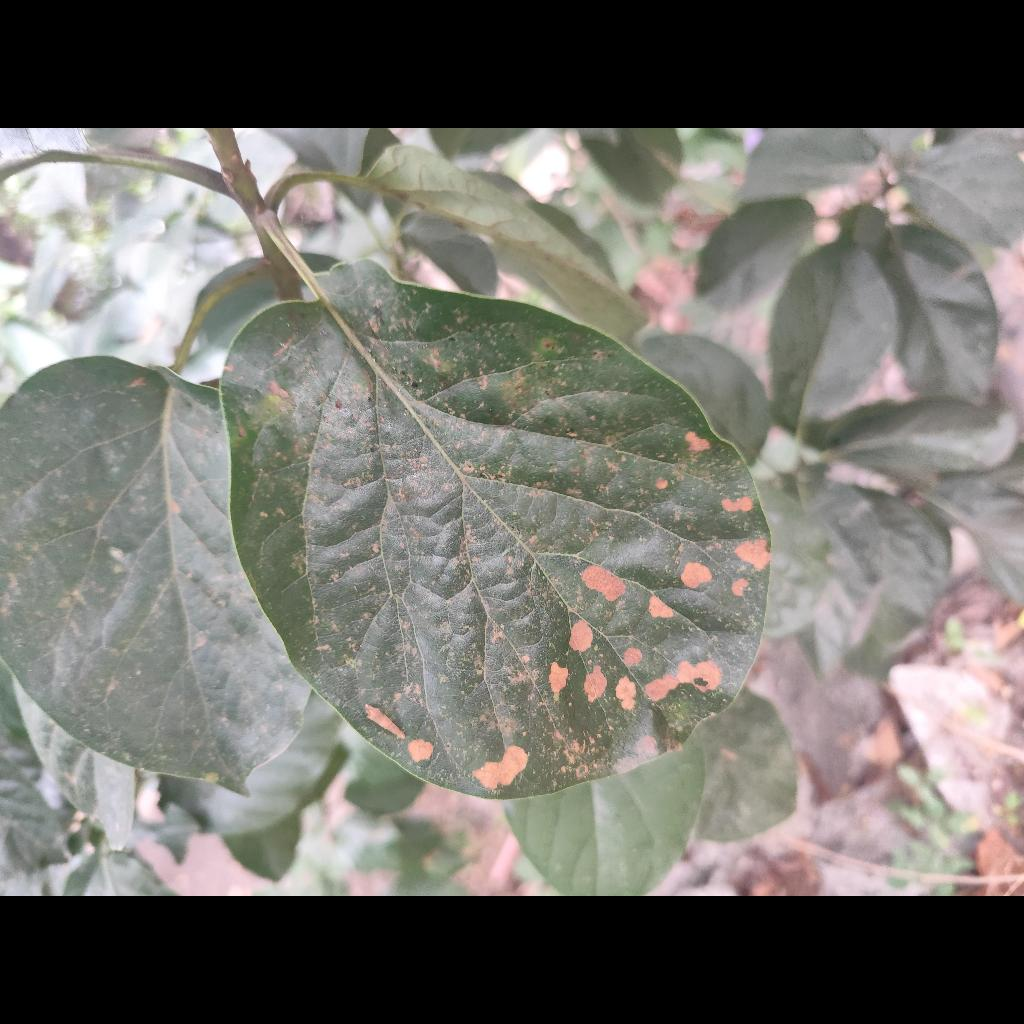Anthracnose: (220, 261, 768, 799)
